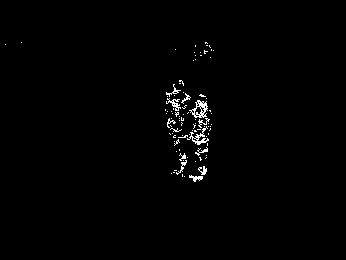person: (166, 79, 191, 178), (188, 94, 214, 183)
